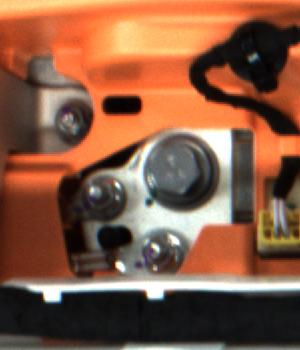nut_b: (140, 129, 220, 209)
screw_s: (77, 174, 122, 217), (137, 234, 181, 275), (53, 104, 84, 137)
